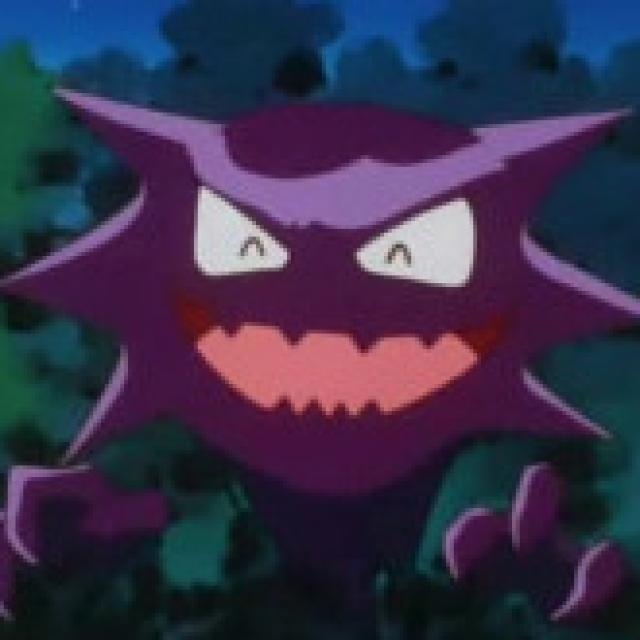Haunter: (25, 103, 613, 555)
